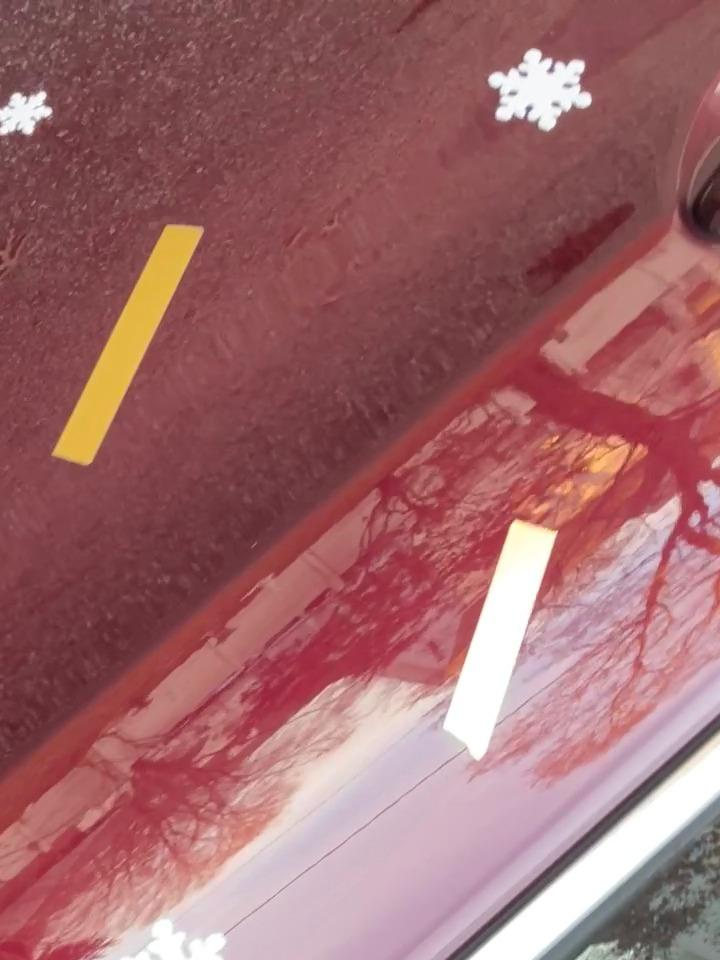dent: (479, 39, 598, 137), (108, 908, 252, 960), (0, 73, 69, 146)
scratch: (46, 216, 203, 473), (419, 504, 562, 778)
